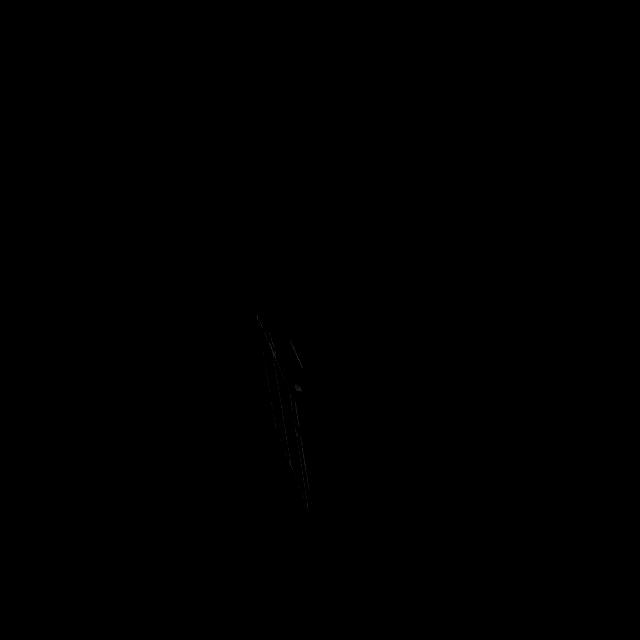medium_debris: (236, 268, 352, 538)
